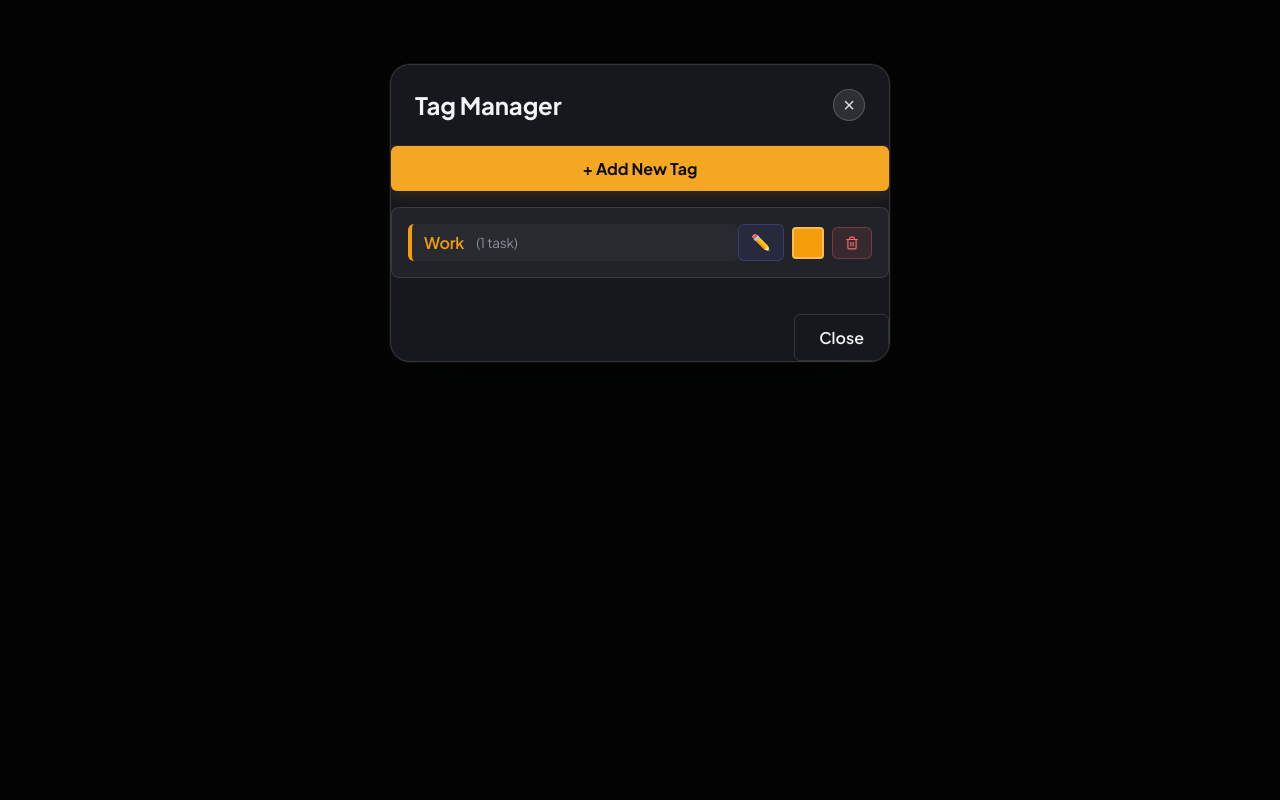
Test: TagManager › shows only the new name after renaming a tag
Click the button titled "Rename \"Work\" tag" at (761, 242), box [738,224,784,261]
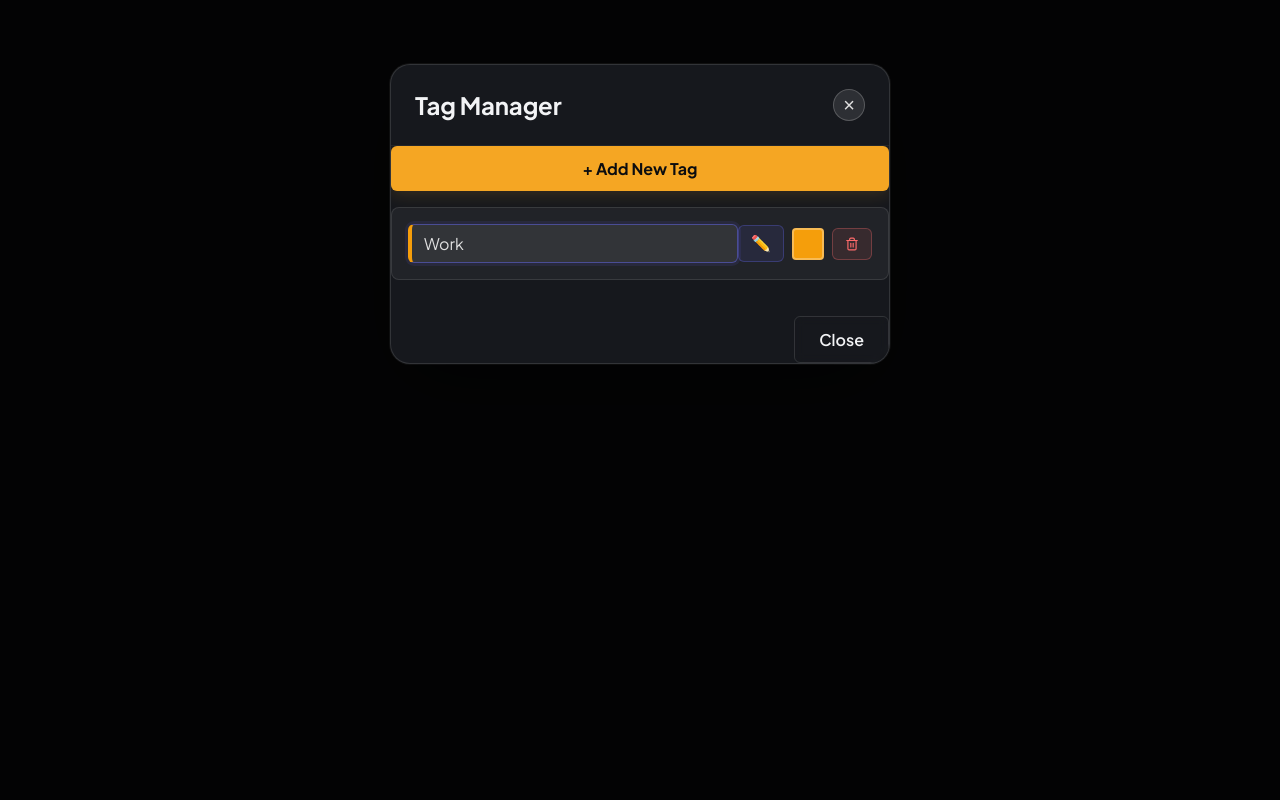
Replace the text in the field showing "Work" with "Office" at (573, 244), box [408,224,738,263]
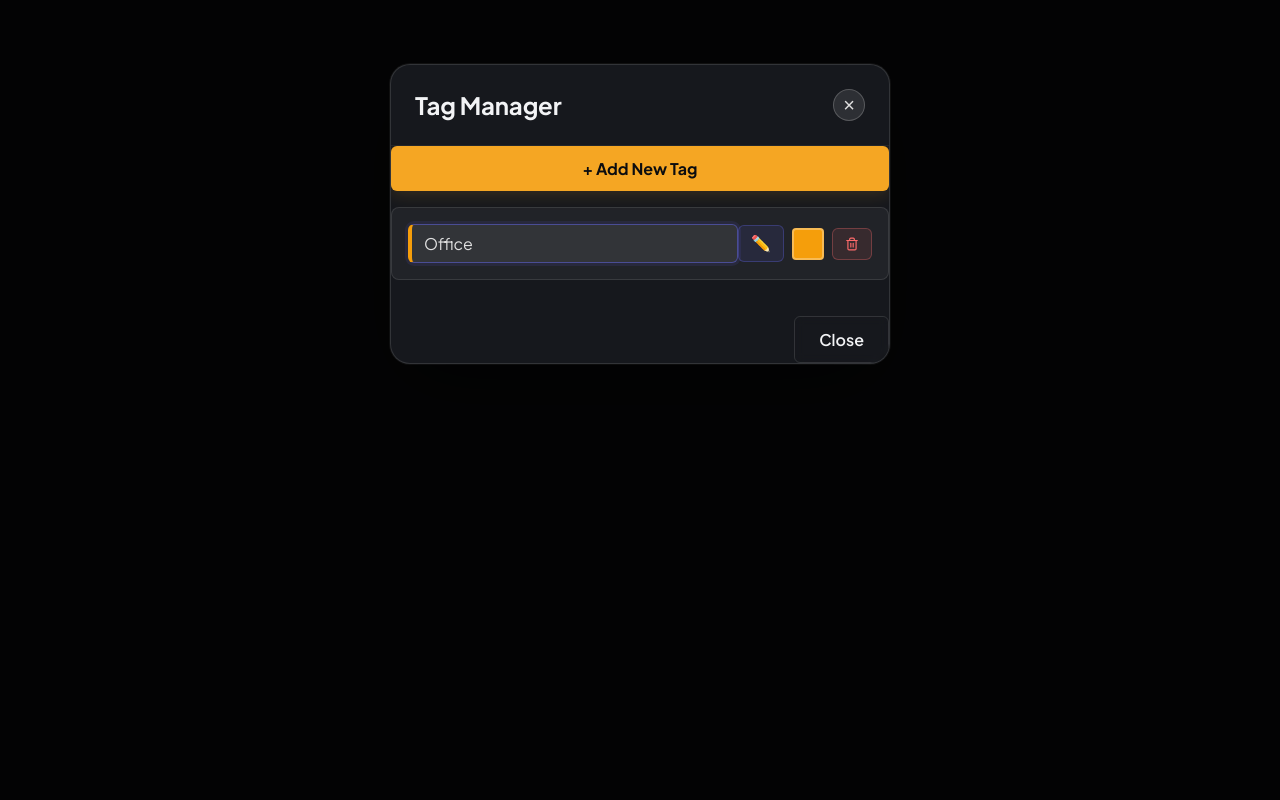
Press Enter in the field showing "Work", box [408,224,738,263]
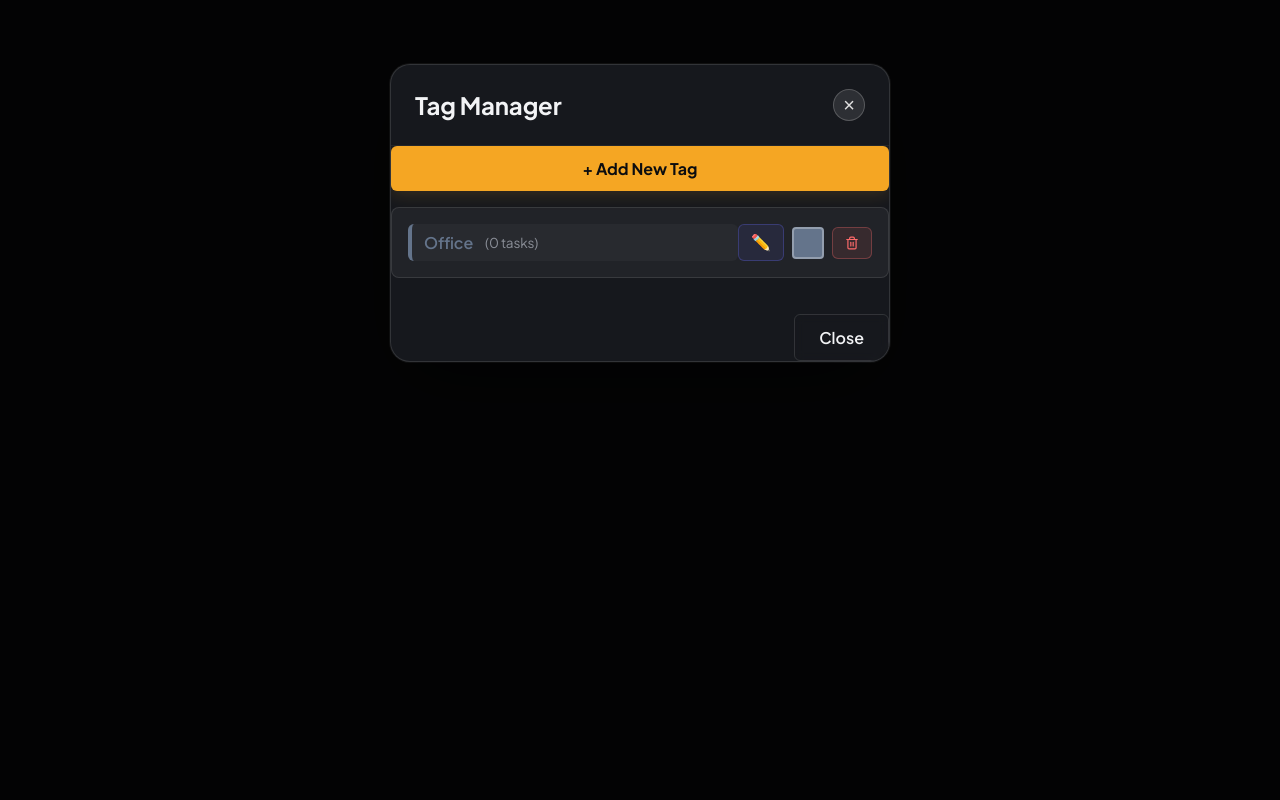
expect the text "Work" is not shown: met
expect the text "Office" is shown: met, box [424,232,473,253]
